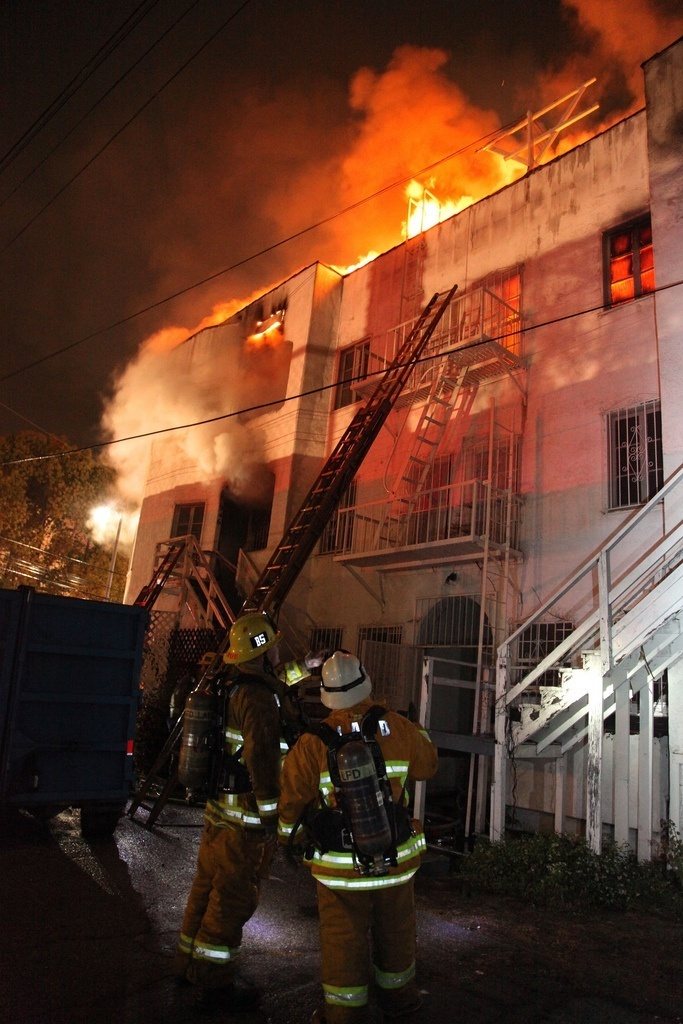fire: (333, 177, 468, 274), (243, 310, 285, 347)
